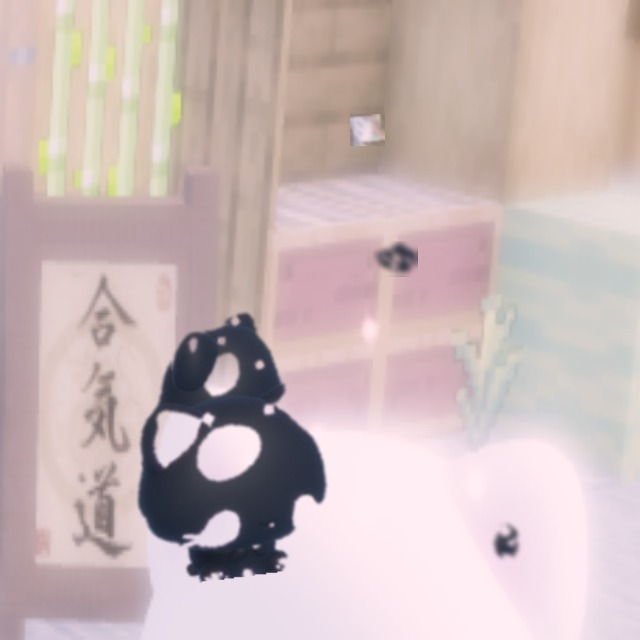urso_branco: (350, 114, 385, 146)
urso_preto: (104, 284, 357, 591), (486, 517, 528, 568), (373, 241, 418, 277)
